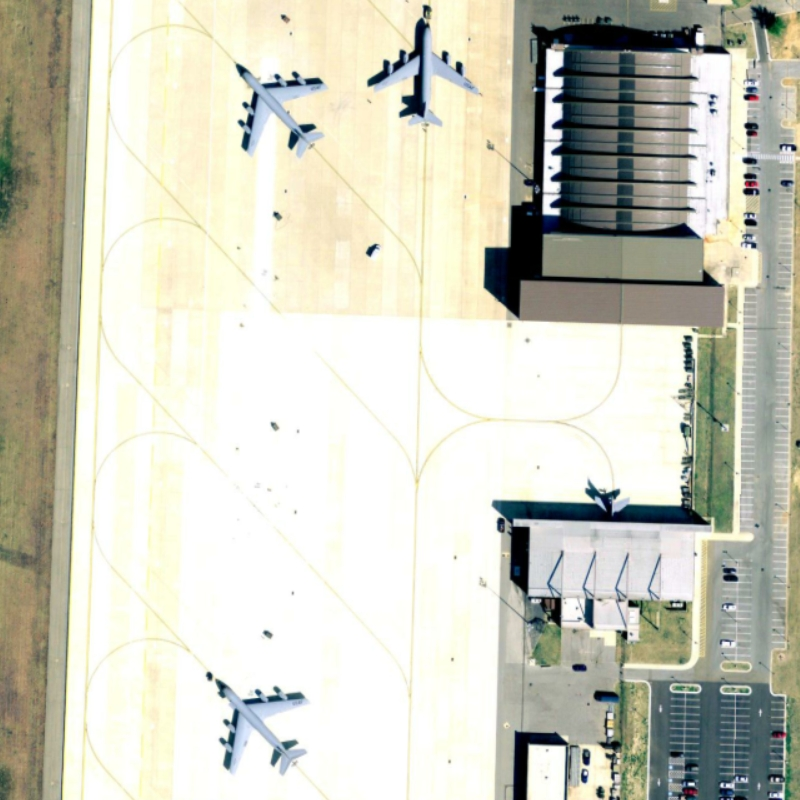A14: (359, 14, 485, 134), (208, 675, 315, 786), (232, 58, 332, 161)
